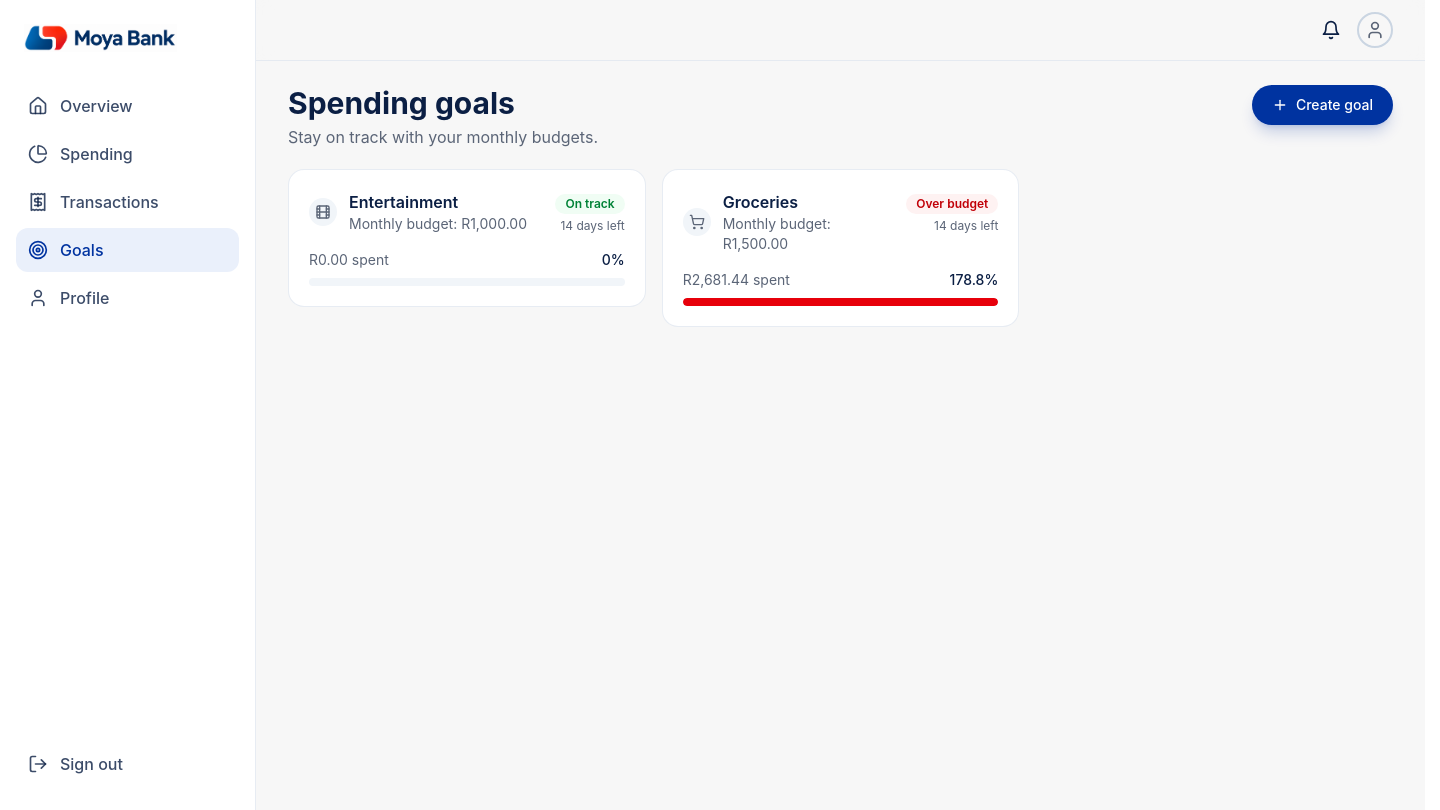
Goals page › edits a goal's budget inside the drawer
Click the button "Groceries". click: point(760, 202)
box: [723,190,798,214]
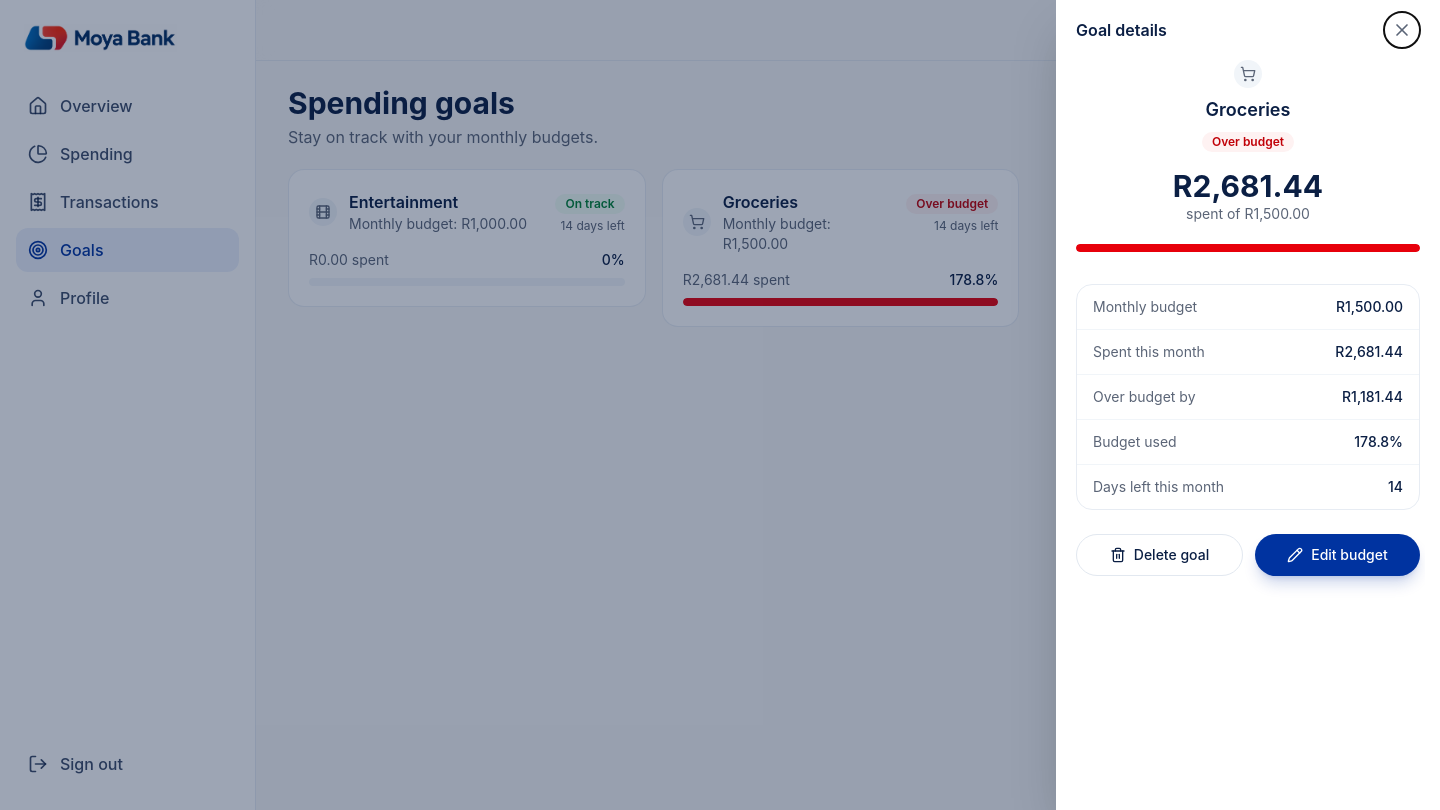
Click the button "Edit budget". click: point(1338, 555)
box: [1255,534,1420,576]
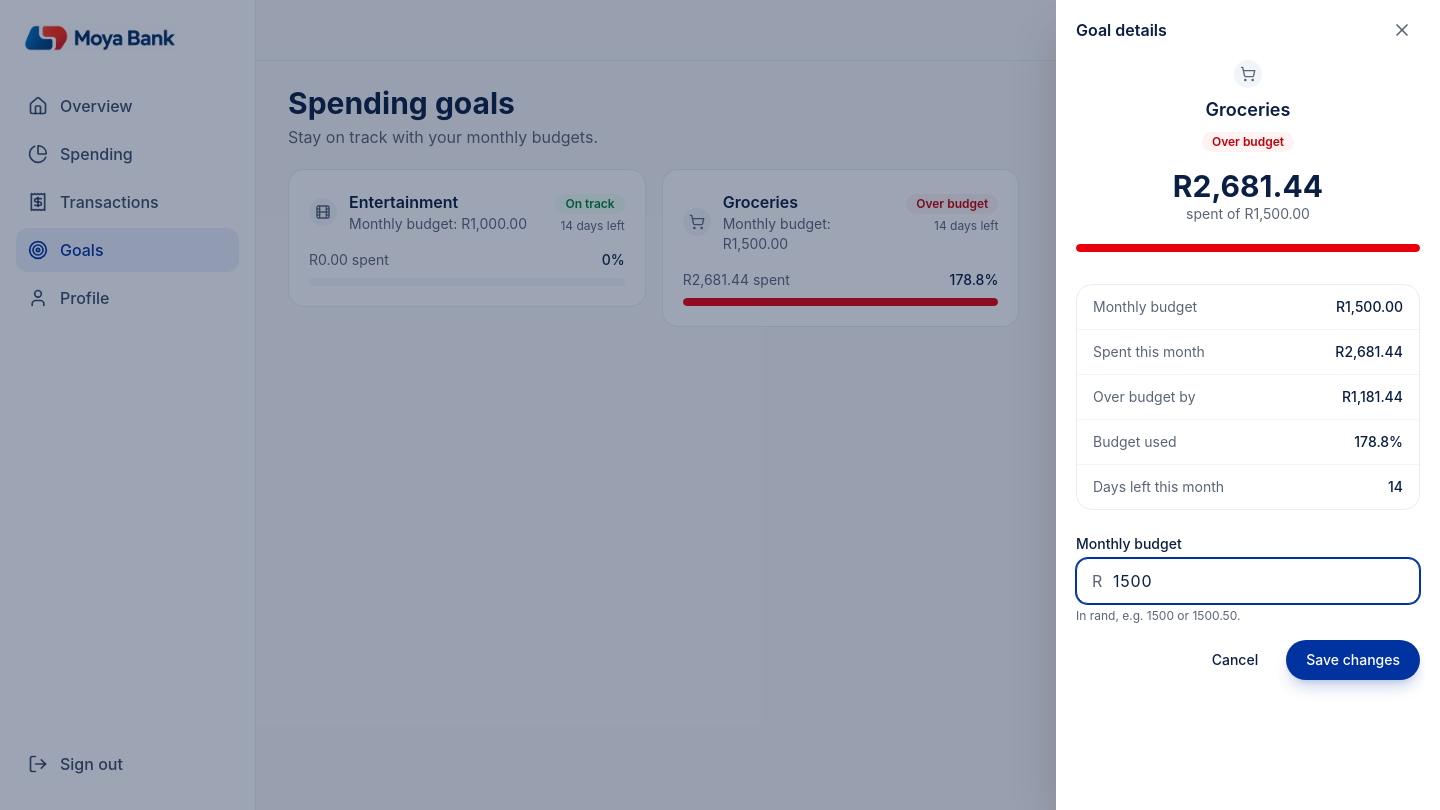
Expected: the field labelled "Monthly budget" holds "1500"
Replace the text in the field labelled "Monthly budget" with "2500". click: point(1248, 581)
box: [1076,558,1420,604]
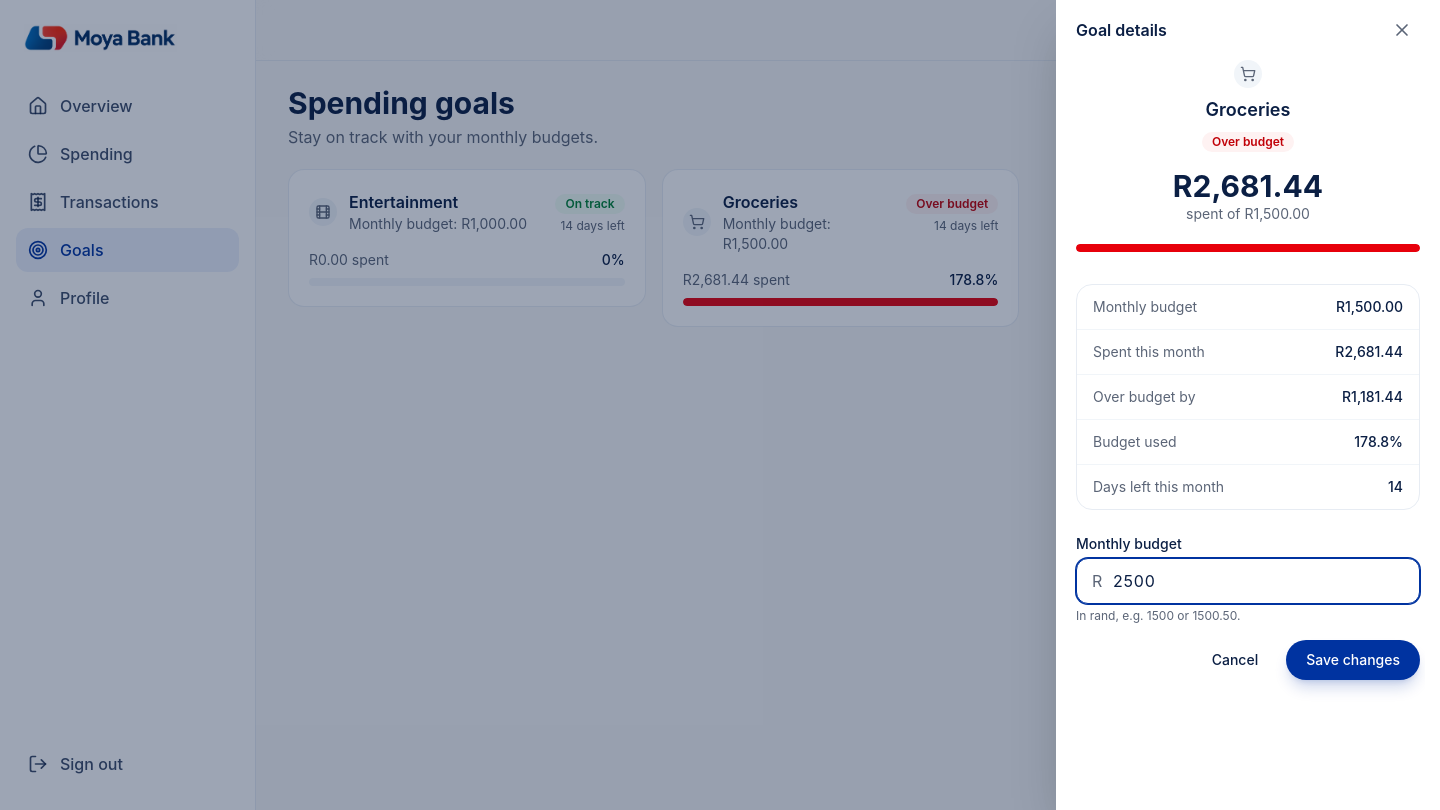
Click the button "Save changes". click: point(1353, 660)
box: [1286,640,1420,680]
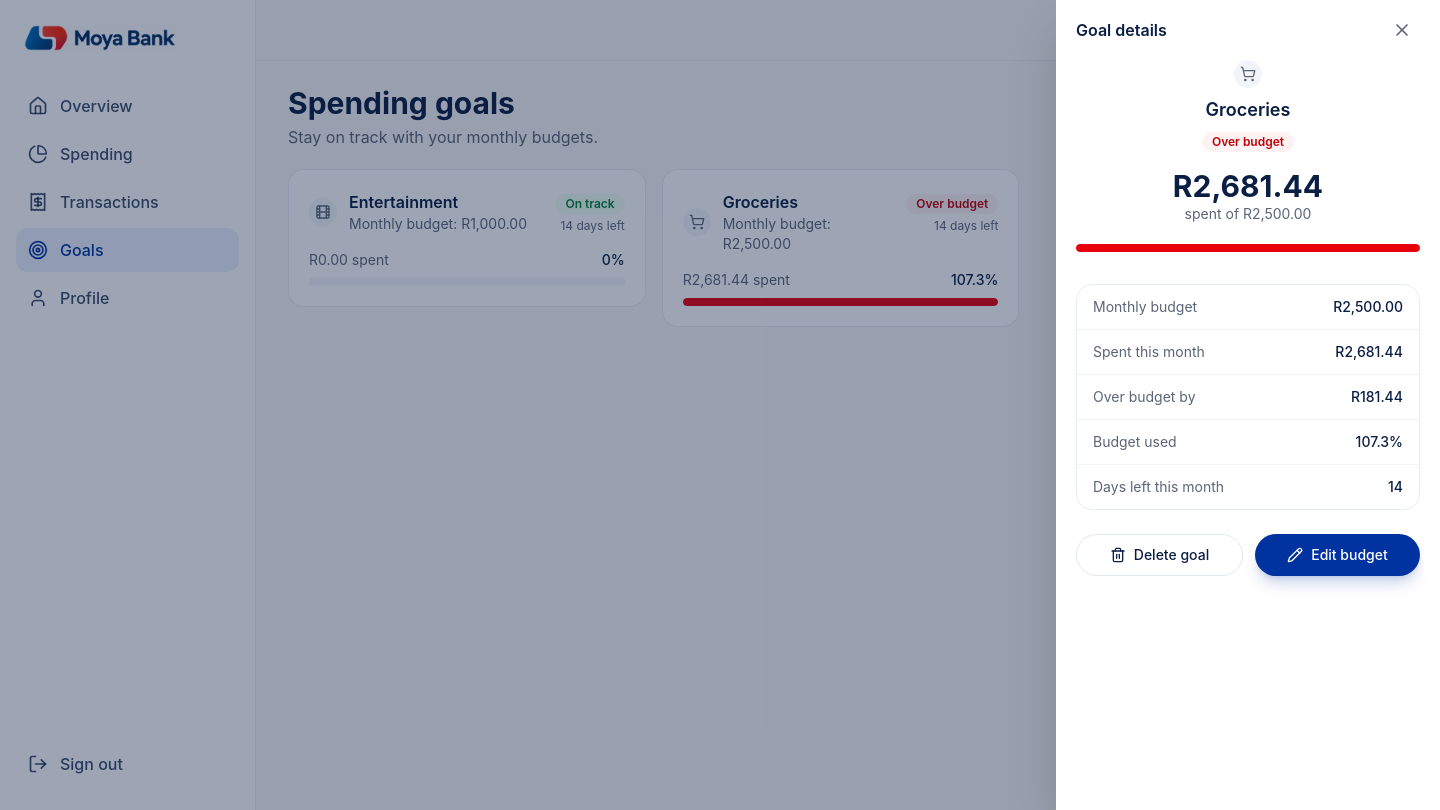
Expected: the text "spent of R2,500.00" is shown, [1185,204,1311,224]
Expected: the button "Edit budget" is shown, [1255,534,1420,576]
Expected: the element "Groceries" shows "Monthly budget: R2,500.00", [723,215,831,252]
